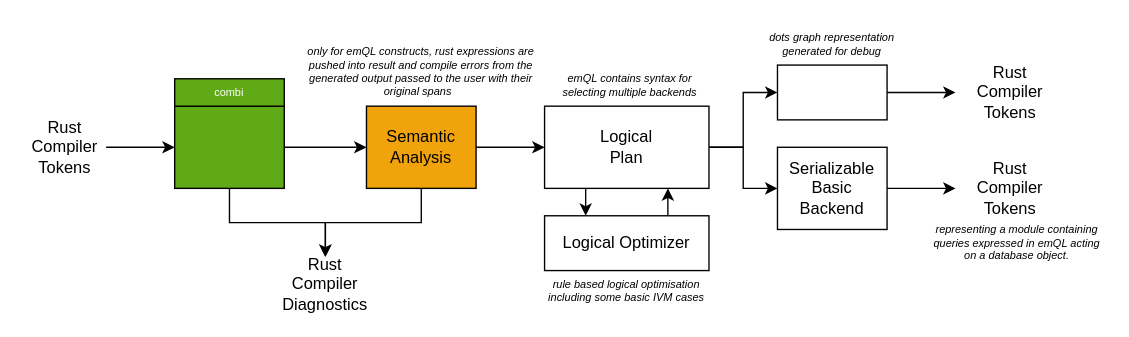
The diagram is 1129 pixels wide and 337 high, and some of its shapes have lost their labels. The shapes that lost their labels are listed below. From the top down, each one's centre as x and y in pixels, then its label:
At [831,92]: "Dots".
At [228,146]: "EMQL Parser".
